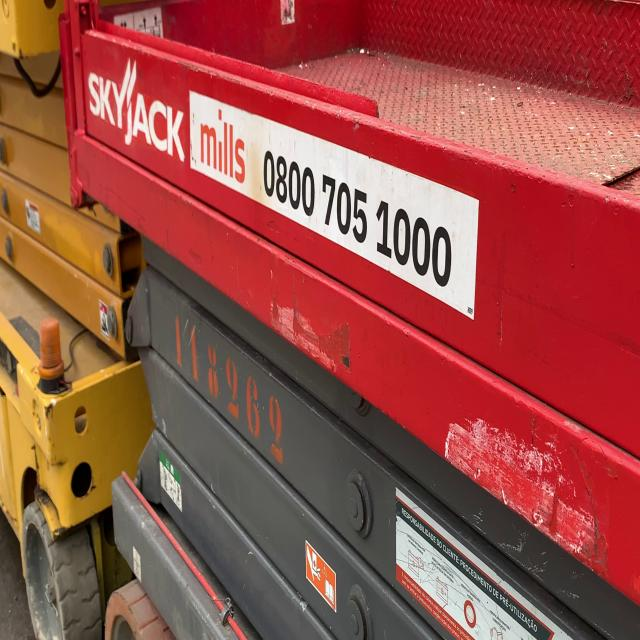Adesivo Longo: (187, 85, 480, 323)
